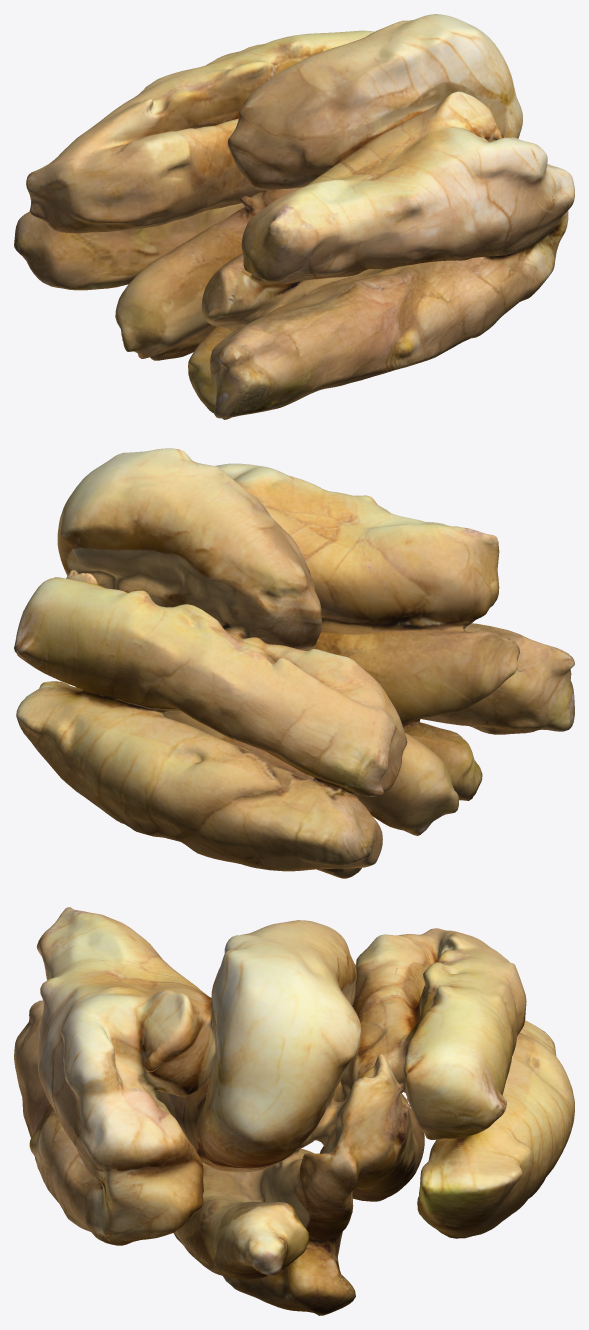
The model's file is ginger.glb.
3 renders of one model, top to bottom at view 1: azimuth 30°, elevation 25°; view 2: azimuth 150°, elevation 25°; view 3: azimuth 270°, elevation 25°, orthographic. The views are drawn at different scales.
Bounding box in the file's own units: 1.99 × 1.36 × 1.88.
Materials: 1 (1 with a texture image).
